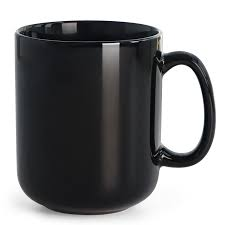mug: (4, 17, 211, 225)
